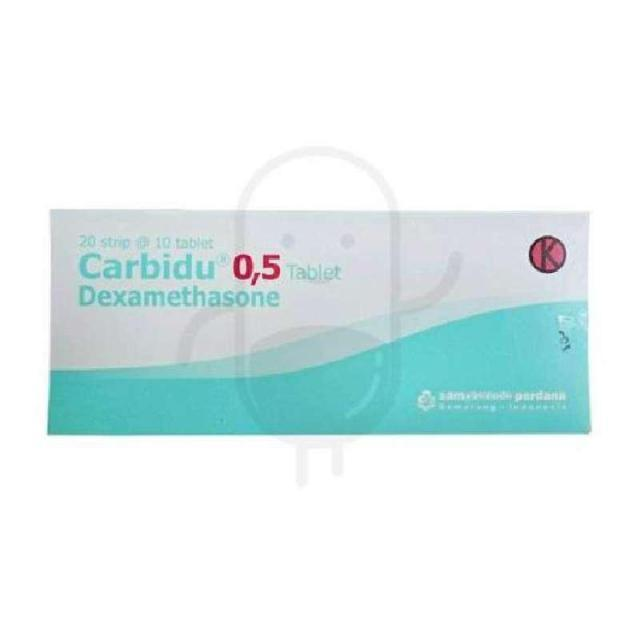drug-name: (77, 250, 283, 288)
